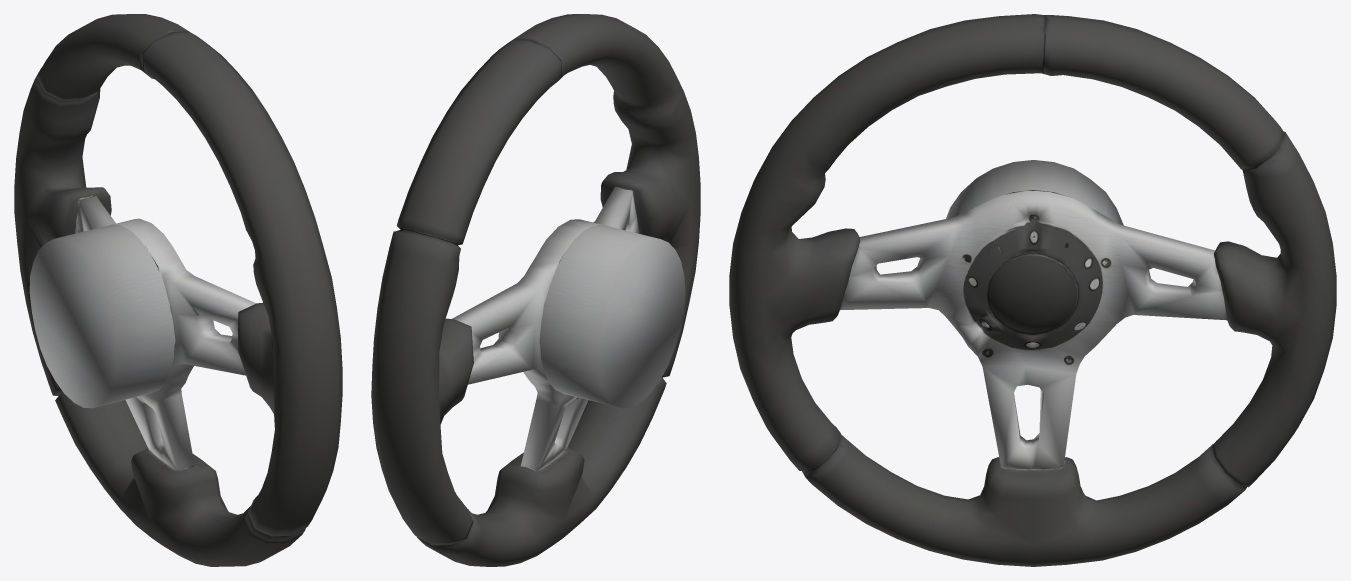
The model's file is steering-wheel.obj.
The picture shows the model from 3 angles, left to right: view 1: azimuth 30°, elevation 25°; view 2: azimuth 150°, elevation 25°; view 3: azimuth 270°, elevation 25°; orthographic projection. The views are drawn at different scales.
Size of the model in its own units: 0.0981 by 0.35 by 0.3556.
1 material, 1 textured.
